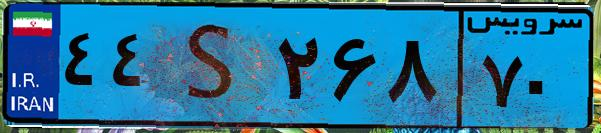0: (525, 38, 570, 115)
2: (270, 28, 330, 110)
4: (57, 26, 110, 100), (110, 28, 158, 98)
6: (330, 28, 385, 110)
7: (475, 38, 525, 113)
8: (385, 28, 445, 110)
S: (158, 12, 270, 120)
